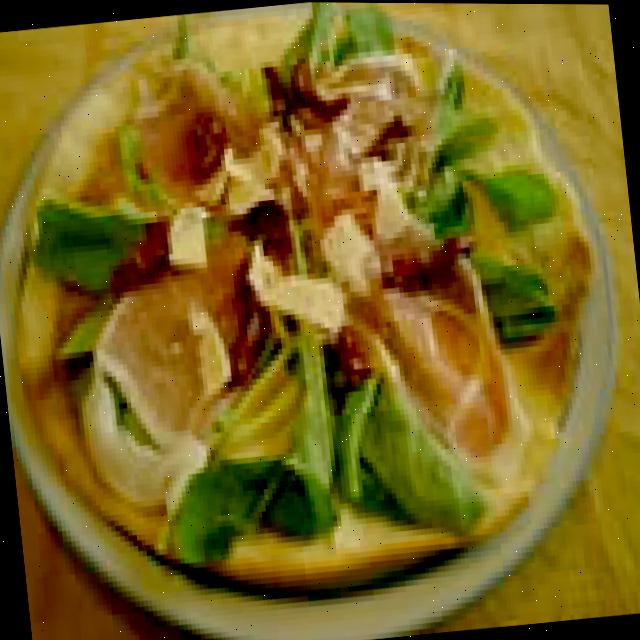汉堡快餐: (0, 0, 636, 613)
